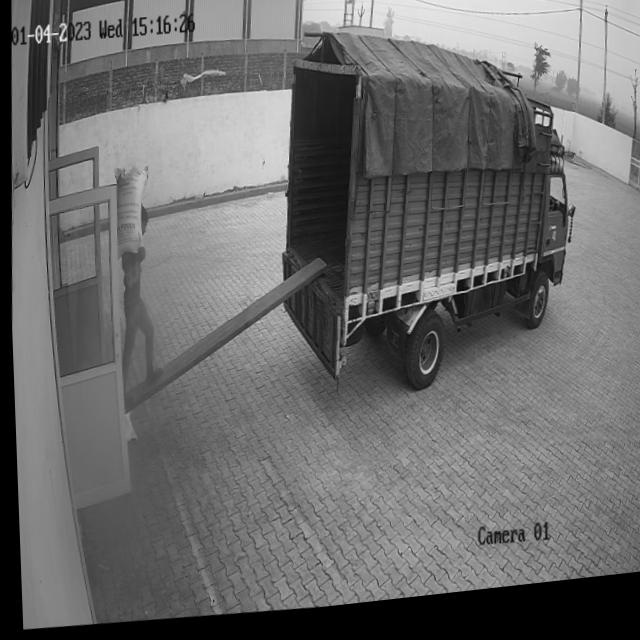sack: (109, 166, 149, 259)
